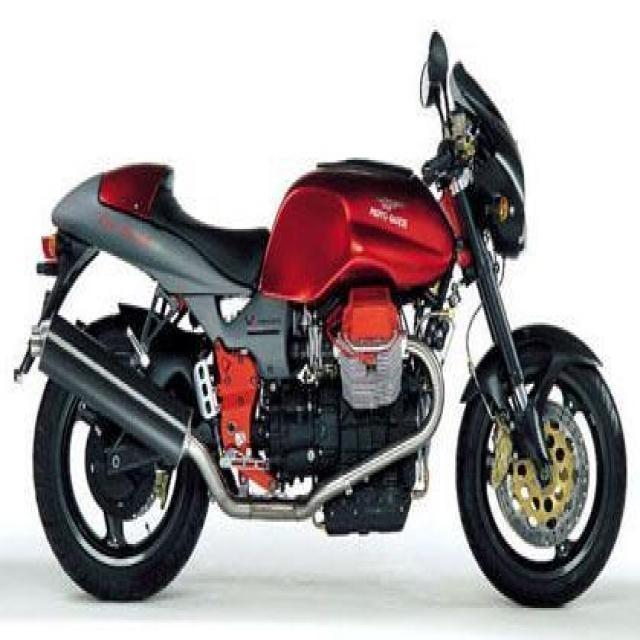Motorcycle: (42, 50, 630, 616)
